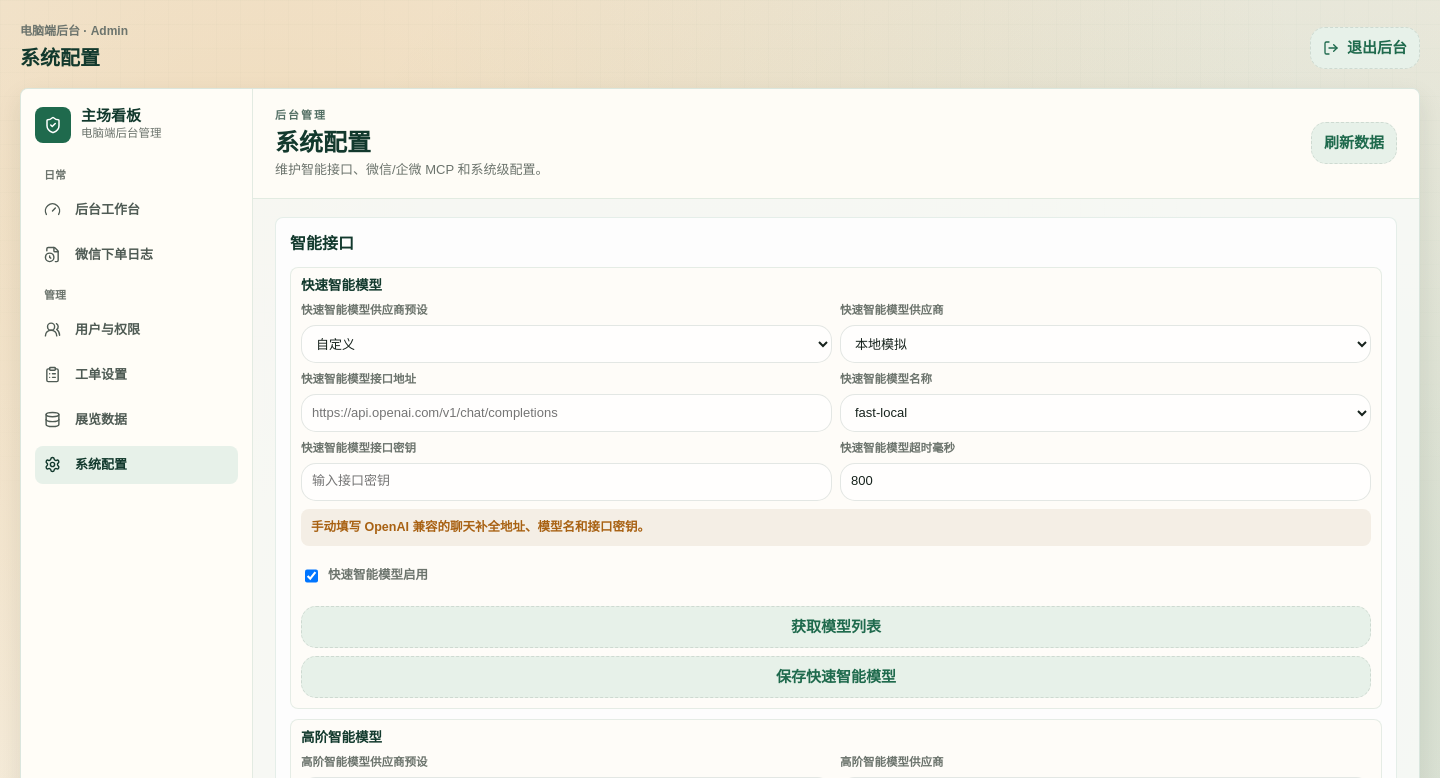
it: admin subroutes › logs out through the server and returns to the admin login form
What coordinates should you click on to do the following:
click the button "退出后台"
I would click on:
 (1365, 48)
Its box is [1310,27,1420,69].
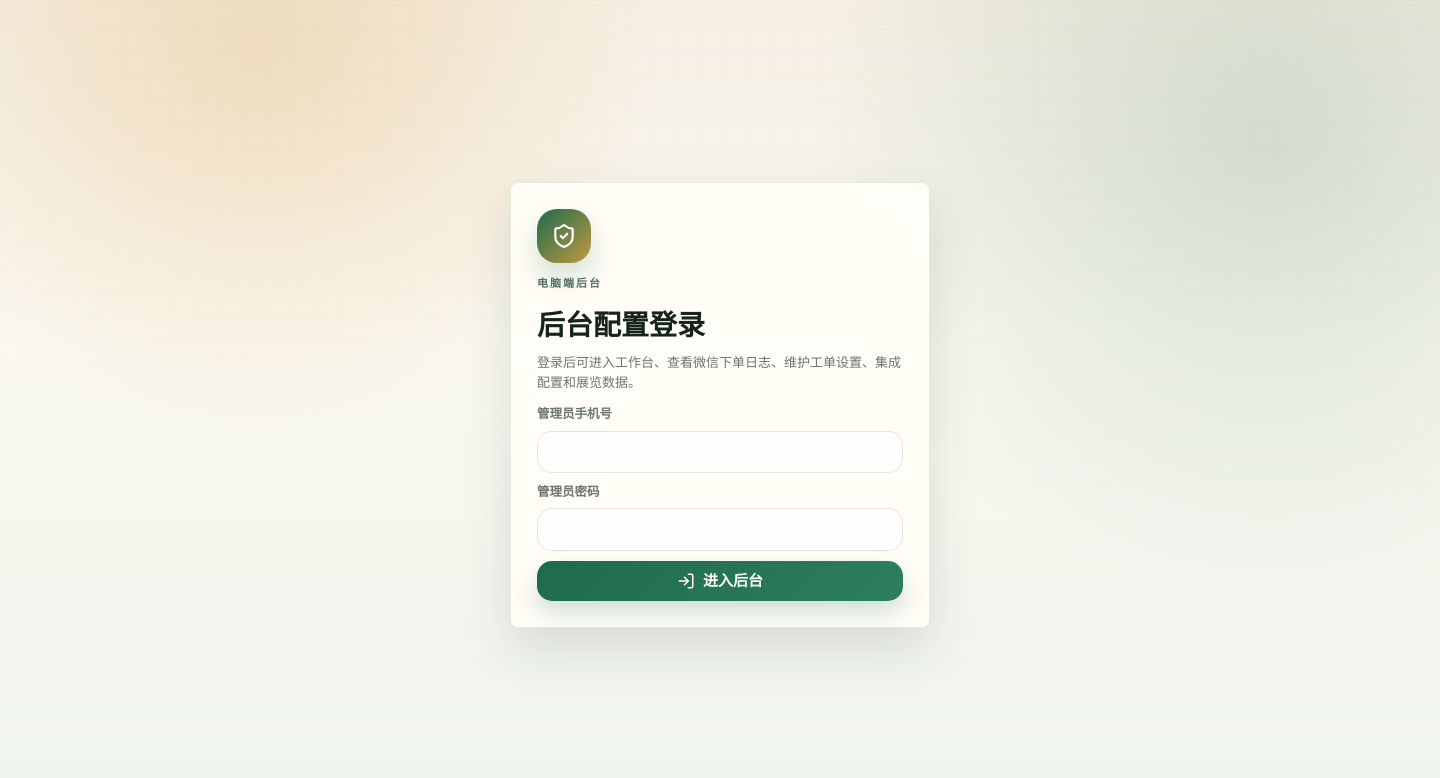
Expected: the heading "后台配置登录" is shown, [537,310,705,340]
